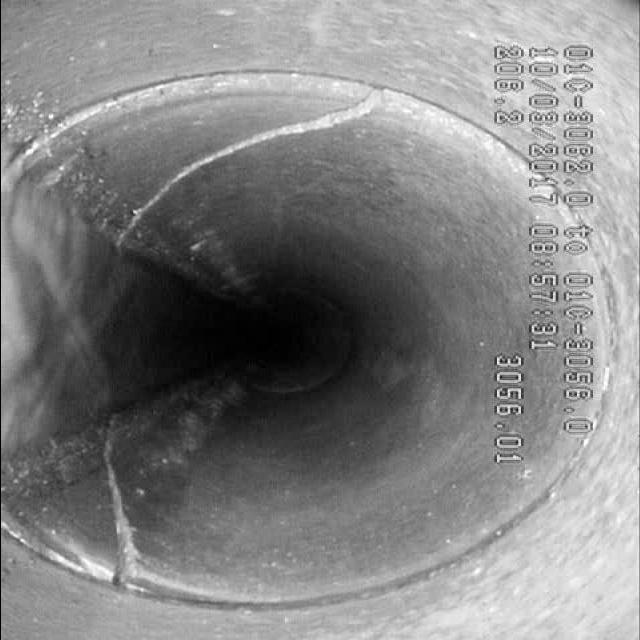Fracture: (136, 94, 392, 240), (88, 432, 170, 579)
